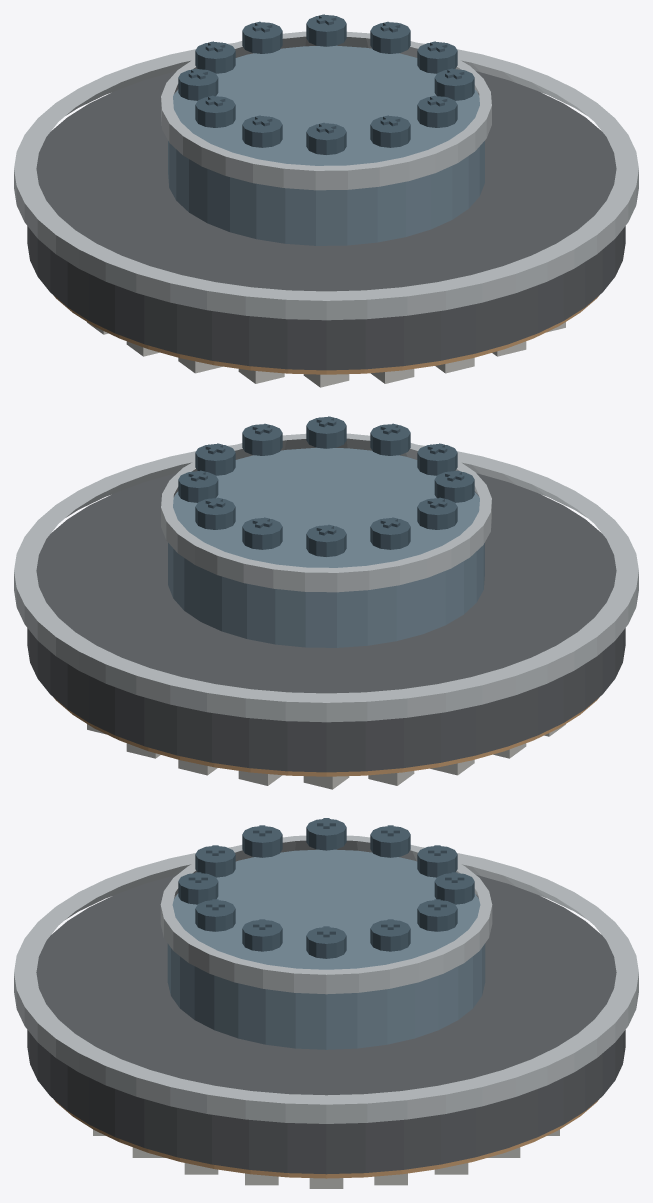
File: 24_L73_PadConditionerAbrasiveDisc.glb
3 views of the same model, one above another, from view 1: azimuth 30°, elevation 25°; view 2: azimuth 150°, elevation 25°; view 3: azimuth 270°, elevation 25° (orthographic).
Visible parts, largest first — view 1: PadConditionerAbrasiveDisc_Node_0000, PadConditionerAbrasiveDisc_Node_0003, PadConditionerAbrasiveDisc_Node_0001, PadConditionerAbrasiveDisc_Node_0004, PadConditionerAbrasiveDisc_Node_0002, PadConditionerAbrasiveDisc_Node_0044, PadConditionerAbrasiveDisc_Node_0059, PadConditionerAbrasiveDisc_Node_0038, PadConditionerAbrasiveDisc_Node_0050, PadConditionerAbrasiveDisc_Node_0065, PadConditionerAbrasiveDisc_Node_0041, PadConditionerAbrasiveDisc_Node_0062 (+5 smaller); view 2: PadConditionerAbrasiveDisc_Node_0000, PadConditionerAbrasiveDisc_Node_0003, PadConditionerAbrasiveDisc_Node_0001, PadConditionerAbrasiveDisc_Node_0004, PadConditionerAbrasiveDisc_Node_0002, PadConditionerAbrasiveDisc_Node_0056, PadConditionerAbrasiveDisc_Node_0041, PadConditionerAbrasiveDisc_Node_0035, PadConditionerAbrasiveDisc_Node_0050, PadConditionerAbrasiveDisc_Node_0062, PadConditionerAbrasiveDisc_Node_0038, PadConditionerAbrasiveDisc_Node_0059 (+5 smaller); view 3: PadConditionerAbrasiveDisc_Node_0000, PadConditionerAbrasiveDisc_Node_0003, PadConditionerAbrasiveDisc_Node_0001, PadConditionerAbrasiveDisc_Node_0004, PadConditionerAbrasiveDisc_Node_0002, PadConditionerAbrasiveDisc_Node_0032, PadConditionerAbrasiveDisc_Node_0047, PadConditionerAbrasiveDisc_Node_0053, PadConditionerAbrasiveDisc_Node_0035, PadConditionerAbrasiveDisc_Node_0038, PadConditionerAbrasiveDisc_Node_0062, PadConditionerAbrasiveDisc_Node_0065 (+5 smaller).
Part boxes in pixels (x1,y1,x2,y2): PadConditionerAbrasiveDisc_Node_0000: (27,71,625,370); PadConditionerAbrasiveDisc_Node_0003: (168,45,484,245); PadConditionerAbrasiveDisc_Node_0001: (14,43,638,320); PadConditionerAbrasiveDisc_Node_0004: (161,31,491,190); PadConditionerAbrasiveDisc_Node_0002: (54,296,598,374); PadConditionerAbrasiveDisc_Node_0044: (306,123,346,154); PadConditionerAbrasiveDisc_Node_0059: (242,22,282,53); PadConditionerAbrasiveDisc_Node_0038: (417,96,457,127); PadConditionerAbrasiveDisc_Node_0050: (195,96,235,127); PadConditionerAbrasiveDisc_Node_0065: (370,22,410,53); PadConditionerAbrasiveDisc_Node_0041: (370,116,410,147); PadConditionerAbrasiveDisc_Node_0062: (306,15,346,46); PadConditionerAbrasiveDisc_Node_0000: (27,473,625,772); PadConditionerAbrasiveDisc_Node_0003: (168,447,484,647); PadConditionerAbrasiveDisc_Node_0001: (14,445,638,722); PadConditionerAbrasiveDisc_Node_0004: (161,433,491,592); PadConditionerAbrasiveDisc_Node_0002: (54,698,598,776); PadConditionerAbrasiveDisc_Node_0056: (306,525,346,556); PadConditionerAbrasiveDisc_Node_0041: (370,424,410,455); PadConditionerAbrasiveDisc_Node_0035: (242,424,282,455); PadConditionerAbrasiveDisc_Node_0050: (417,498,457,529); PadConditionerAbrasiveDisc_Node_0062: (195,498,235,529); PadConditionerAbrasiveDisc_Node_0038: (306,417,346,448); PadConditionerAbrasiveDisc_Node_0059: (242,518,282,549); PadConditionerAbrasiveDisc_Node_0000: (27,875,625,1174); PadConditionerAbrasiveDisc_Node_0003: (167,849,485,1049); PadConditionerAbrasiveDisc_Node_0001: (14,847,638,1123); PadConditionerAbrasiveDisc_Node_0004: (160,835,492,994); PadConditionerAbrasiveDisc_Node_0002: (54,1100,598,1178); PadConditionerAbrasiveDisc_Node_0032: (306,927,346,958); PadConditionerAbrasiveDisc_Node_0047: (242,826,282,857); PadConditionerAbrasiveDisc_Node_0053: (370,826,410,857); PadConditionerAbrasiveDisc_Node_0035: (242,920,282,951); PadConditionerAbrasiveDisc_Node_0038: (195,900,235,931); PadConditionerAbrasiveDisc_Node_0062: (417,900,457,931); PadConditionerAbrasiveDisc_Node_0065: (370,920,410,951).
Bounding box in the file's own units: 1.02 × 0.361 × 1.02.
